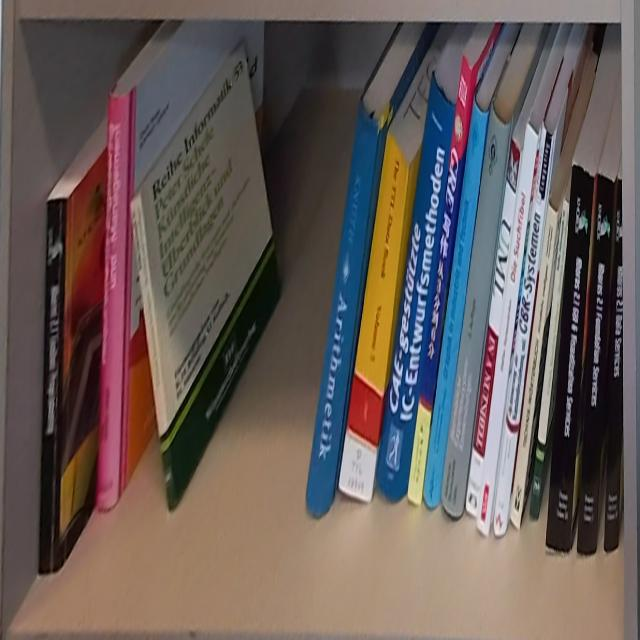Book Spine: (376, 76, 457, 504), (406, 53, 475, 510), (306, 101, 381, 515), (442, 103, 512, 517), (423, 100, 490, 508), (337, 130, 410, 503), (476, 119, 538, 542), (493, 120, 555, 539), (465, 137, 522, 521), (546, 161, 594, 556), (510, 201, 559, 536), (129, 193, 177, 515), (97, 92, 131, 512), (577, 171, 614, 555), (529, 197, 570, 524), (38, 200, 68, 574), (604, 178, 623, 556)
